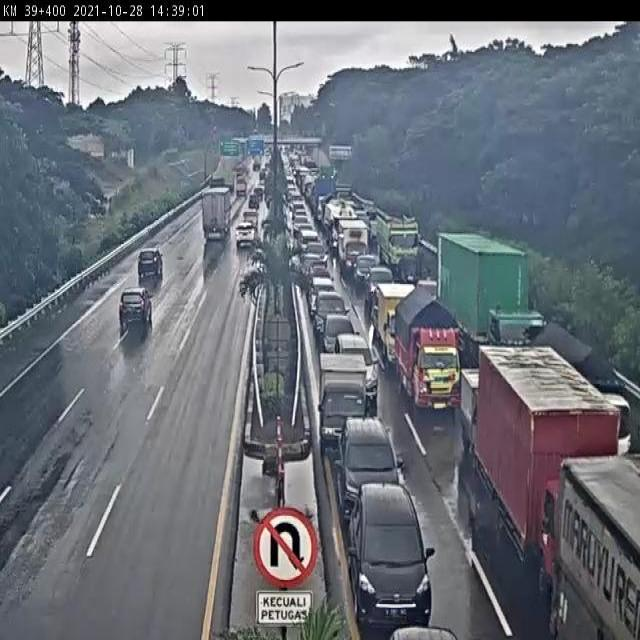big truck: (477, 345, 621, 620), (436, 232, 548, 399), (202, 185, 231, 239)
car: (347, 481, 438, 624), (337, 419, 406, 528), (363, 574, 459, 640), (316, 353, 373, 460), (373, 205, 418, 276), (322, 312, 359, 368), (311, 292, 350, 345), (117, 286, 154, 326), (366, 266, 395, 314), (308, 276, 338, 319), (137, 247, 164, 277), (304, 242, 328, 274), (355, 255, 377, 288), (234, 221, 258, 248), (240, 213, 258, 240), (244, 195, 258, 213)
small truck: (514, 316, 630, 487), (394, 281, 464, 415), (376, 286, 422, 370), (337, 219, 370, 277)
